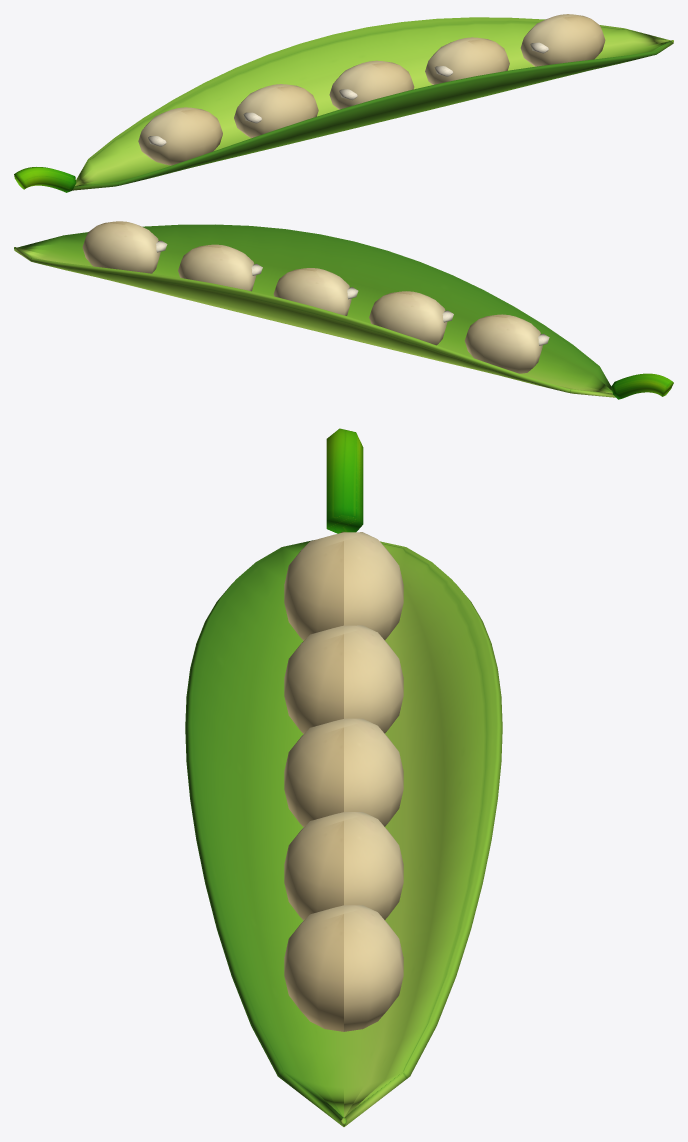
The model's file is NP_GreenBean_OpenPod.fbx.
The picture shows the model from 3 angles, top to bottom: view 1: azimuth 30°, elevation 25°; view 2: azimuth 150°, elevation 25°; view 3: azimuth 270°, elevation 25°; orthographic projection. The views are drawn at different scales.
Visible parts, largest first — view 1: NP_GreenBean_OpenPod.001; view 2: NP_GreenBean_OpenPod.001; view 3: NP_GreenBean_OpenPod.001.
Part boxes in pixels (<box>): NP_GreenBean_OpenPod.001: <box>14,14,673,192</box>; NP_GreenBean_OpenPod.001: <box>14,221,673,399</box>; NP_GreenBean_OpenPod.001: <box>185,428,502,1126</box>.
Bounding box in the file's own units: 39.2 × 3.14 × 8.2.
